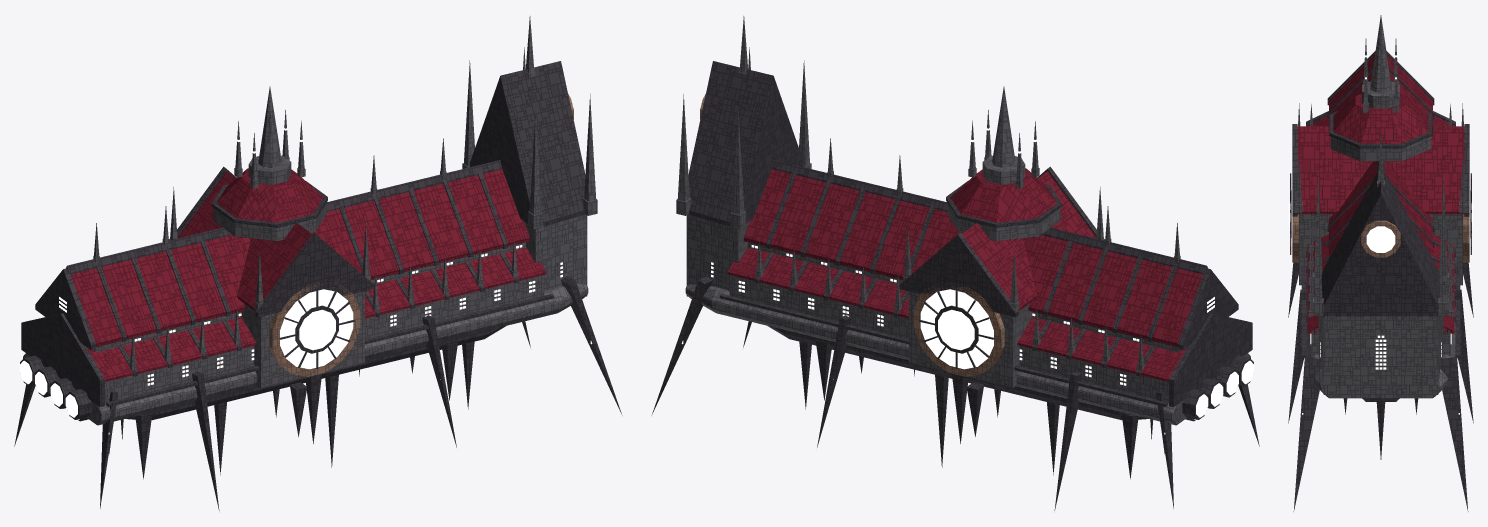
Rendered from arcane_lod0.glb.
3 views of the same model, side by side, from view 1: azimuth 30°, elevation 25°; view 2: azimuth 150°, elevation 25°; view 3: azimuth 270°, elevation 25° (orthographic). The views are drawn at different scales.
Parts seen in each view (by area): view 1: arcane_lod0_body, arcane_lod0_glow; view 2: arcane_lod0_body, arcane_lod0_glow; view 3: arcane_lod0_body, arcane_lod0_glow.
Part boxes in pixels (x1,y1,x2,y2): arcane_lod0_body: [14, 16, 622, 510]; arcane_lod0_glow: [20, 128, 592, 434]; arcane_lod0_body: [651, 16, 1259, 510]; arcane_lod0_glow: [681, 128, 1253, 434]; arcane_lod0_body: [1288, 15, 1473, 511]; arcane_lod0_glow: [1288, 55, 1473, 414].
Bounding box in the file's own units: 21.34 × 15.7 × 6.8.
Materials: 2 (1 with a texture image).
